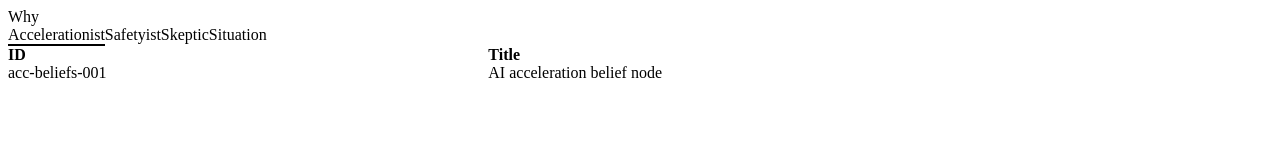
Test: GroundingSection (t/4591) › limits situation tab to top 3 nodes
Click the tab "Situation": (238, 36) [209,26,267,46]
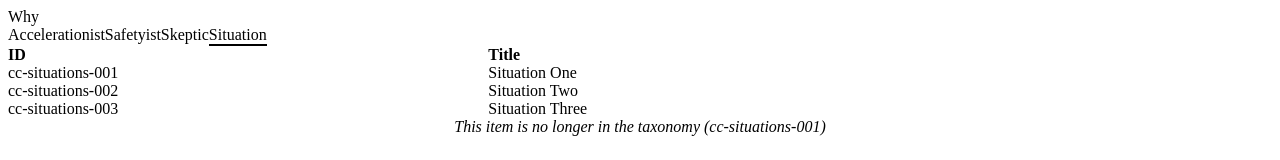
Expected: the text "Situation One" is shown, [488,64,1272,82]
Expected: the text "Situation Two" is shown, [488,82,1272,100]
Expected: the text "Situation Three" is shown, [488,100,1272,118]
